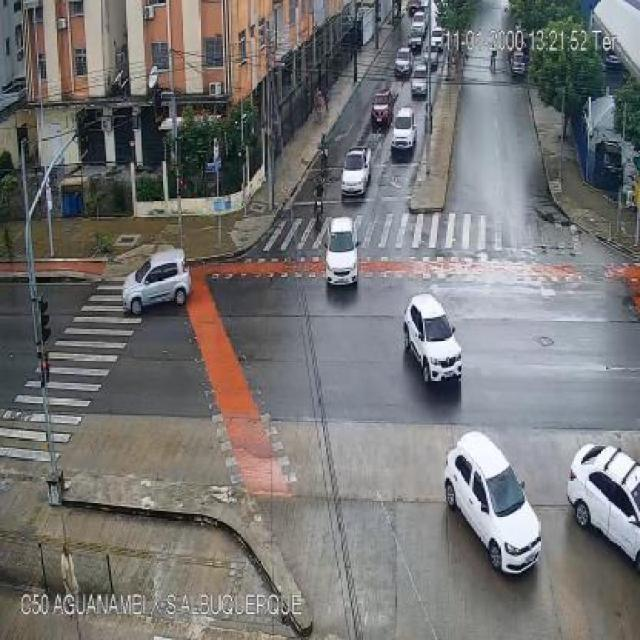Car: (446, 429, 542, 574), (569, 444, 640, 570), (401, 294, 464, 387), (122, 247, 194, 313), (323, 216, 362, 290), (340, 145, 372, 197), (597, 140, 625, 184), (391, 108, 416, 152), (370, 89, 395, 130), (408, 62, 430, 97), (393, 46, 413, 76), (510, 50, 528, 77), (429, 25, 445, 51), (409, 24, 425, 48), (412, 10, 428, 34)
Cycle: (318, 143, 329, 174)
